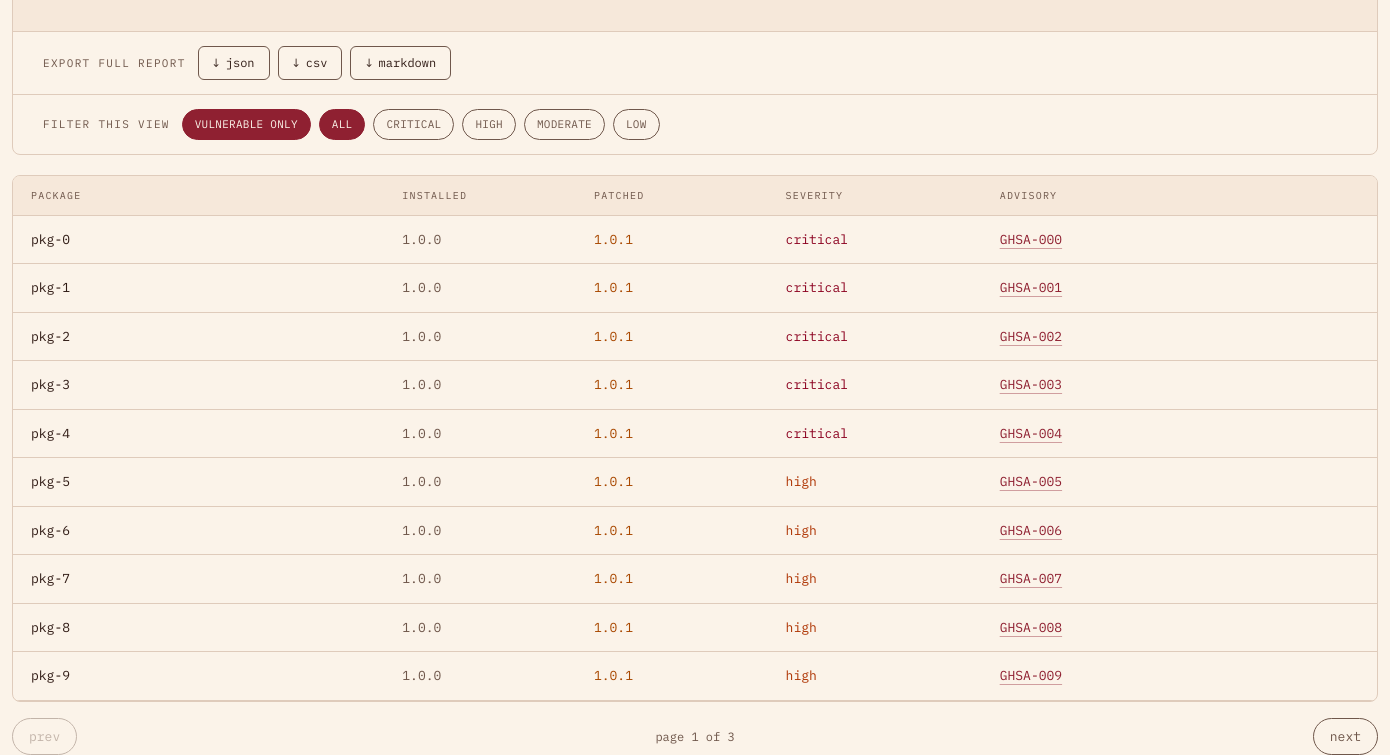
paging the findings table › shows 10 findings per page and pages through the rest
(page scrolled)
Check: the text "page 1 of 3" is shown, box [655,728,735,744]
Check: the button "prev" is disabled, box [12,718,77,754]
Click the button "next" at (1345,737), box [1313,718,1378,754]
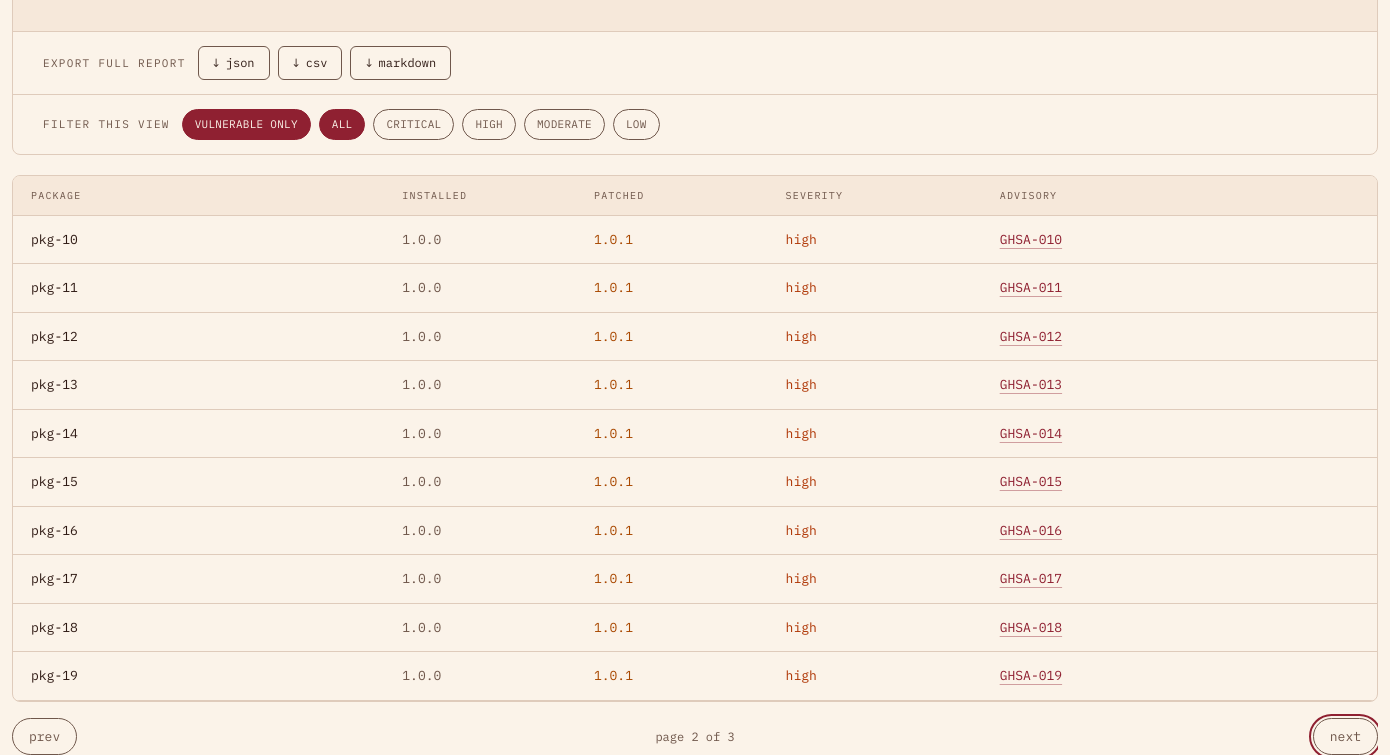
Check: the link "GHSA-010" is shown, box [1000,231,1062,248]
Click the button "next" at (1345,737), box [1313,718,1378,754]
(page scrolled)
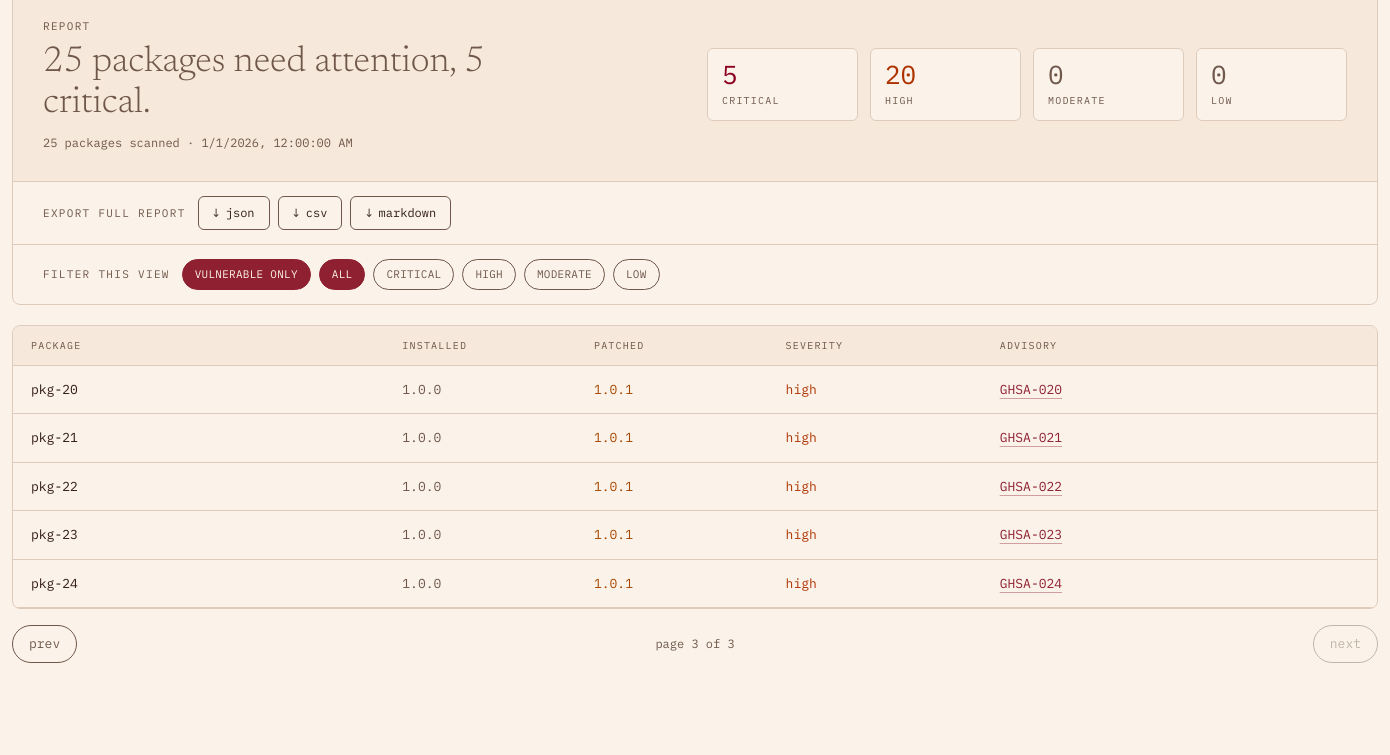
Check: the number of links is 5, box [1000,381,1062,398]; [1000,429,1062,446]; [1000,478,1062,495]; [1000,526,1062,543]; [1000,575,1062,592]
Check: the link "GHSA-024" is shown, box [1000,575,1062,592]
Check: the text "page 3 of 3" is shown, box [655,636,735,652]
